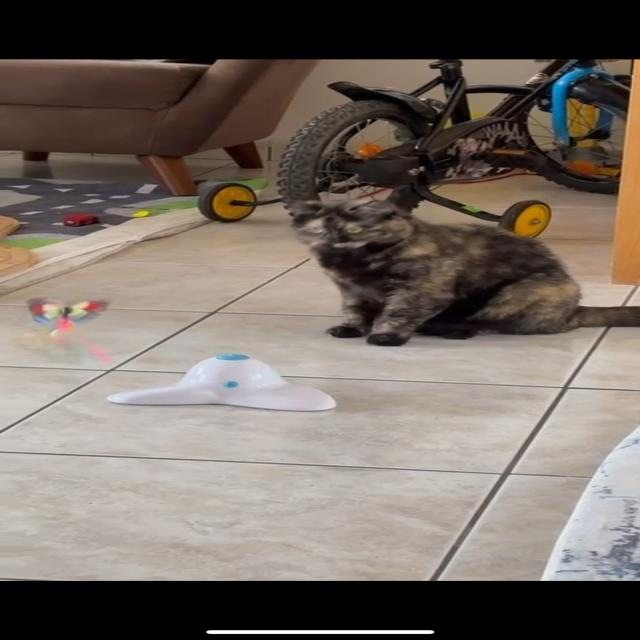authorized: (282, 197, 638, 347)
